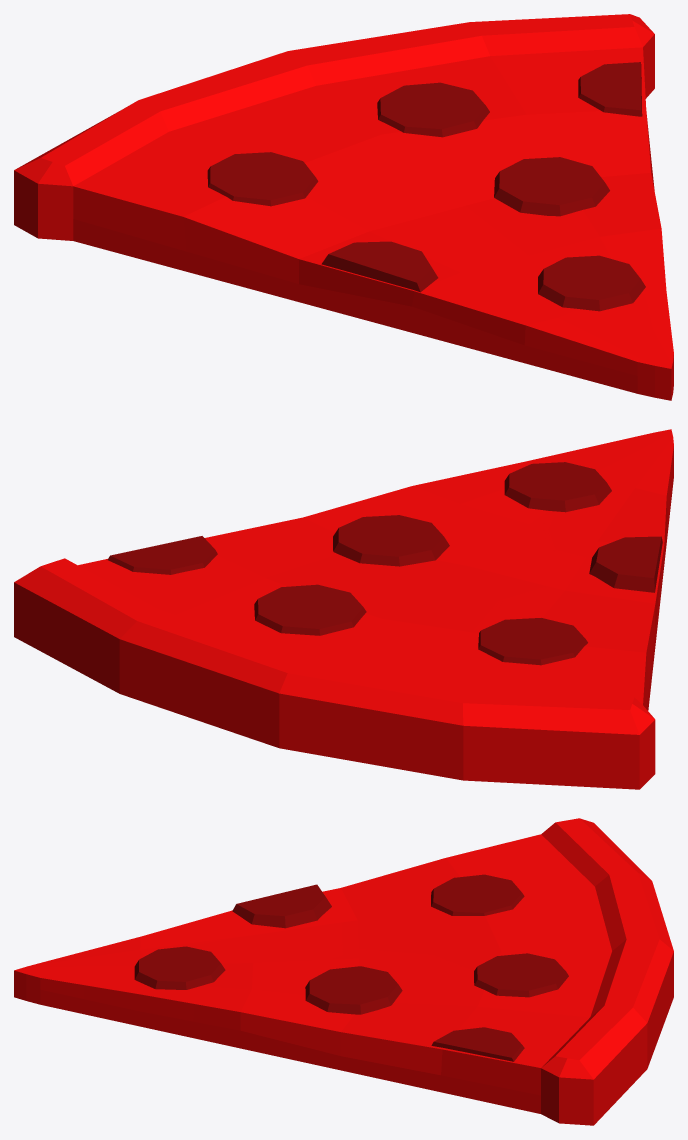
The model's file is RedSlice.fbx.
3 renders of one model, top to bottom at view 1: azimuth 30°, elevation 25°; view 2: azimuth 150°, elevation 25°; view 3: azimuth 270°, elevation 25°, orthographic. The views are drawn at different scales.
Parts seen in each view (by area): view 1: Pizza_Slice; view 2: Pizza_Slice; view 3: Pizza_Slice.
Boxes of the visible parts, <box> form: Pizza_Slice: <box>14,14,673,400</box>; Pizza_Slice: <box>14,429,673,789</box>; Pizza_Slice: <box>14,818,673,1125</box>.
Bounding box in the file's own units: 107 × 11.28 × 116.
